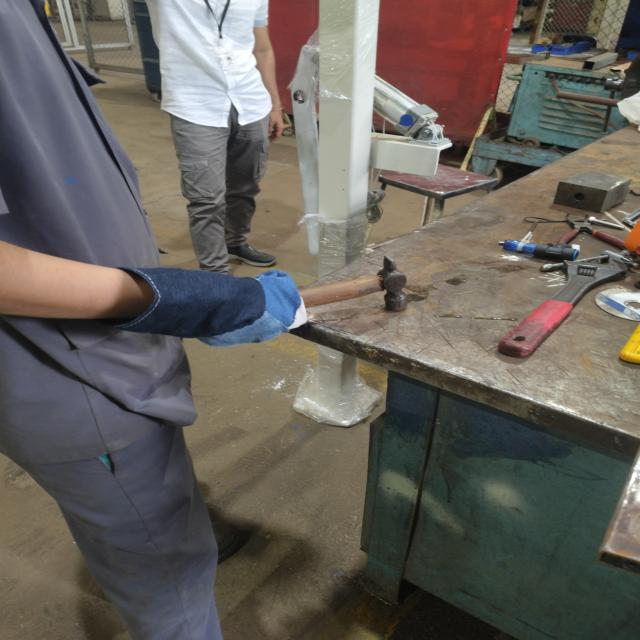Gloves-Detection: (124, 260, 312, 350)
